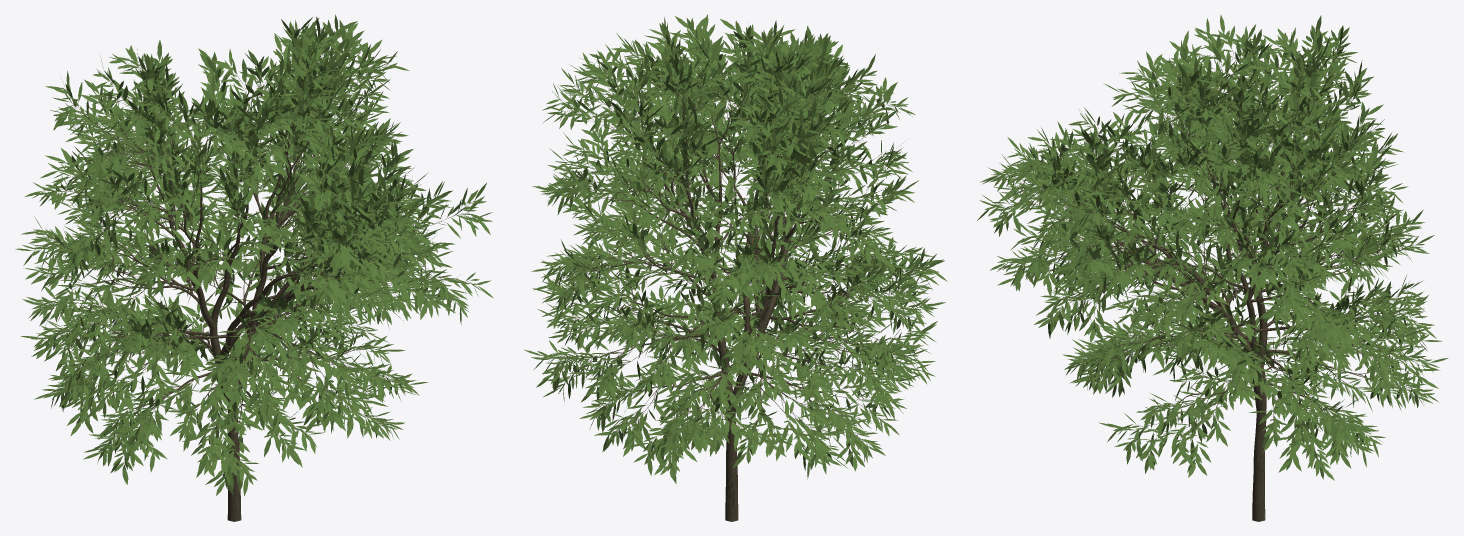
File: tree1.fbx
The picture shows the model from 3 angles, left to right: view 1: azimuth 30°, elevation 25°; view 2: azimuth 150°, elevation 25°; view 3: azimuth 270°, elevation 25°; orthographic projection. The views are drawn at different scales.
Visible parts, largest first — view 1: leaves, tree; view 2: leaves, tree; view 3: leaves, tree.
Part boxes in pixels (<box>): leaves: <box>15,14,493,495</box>; tree: <box>33,39,476,521</box>; leaves: <box>523,14,947,483</box>; tree: <box>552,40,925,521</box>; leaves: <box>977,14,1448,480</box>; tree: <box>998,36,1426,521</box>.
Size of the model in its own units: 974 by 1188 by 1071.
2 materials, 1 textured.
